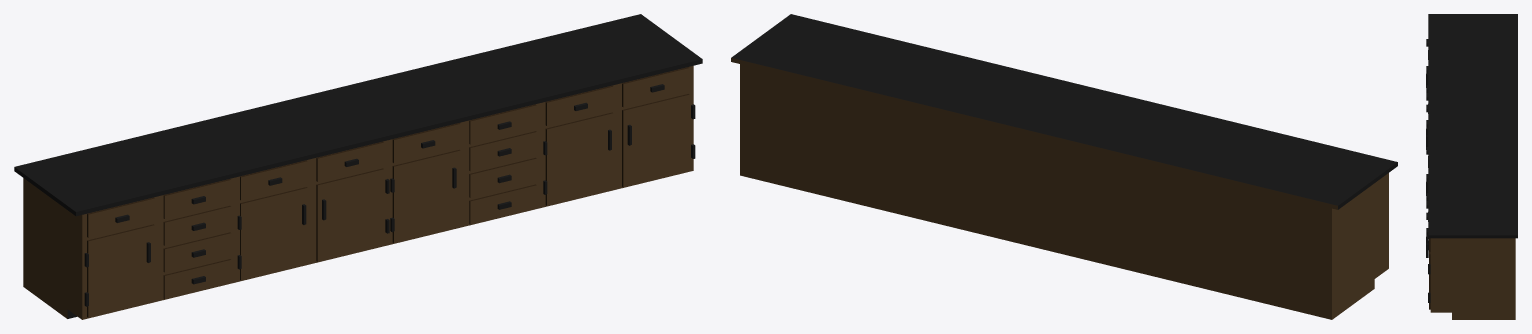
File: counterMERGED.fbx
The picture shows the model from 3 angles, left to right: view 1: azimuth 30°, elevation 25°; view 2: azimuth 150°, elevation 25°; view 3: azimuth 270°, elevation 25°; orthographic projection. The views are drawn at different scales.
Visible parts, largest first — view 1: Cube.007; view 2: Cube.007; view 3: Cube.007.
Boxes of the visible parts, x1=… form: Cube.007: x1=14, y1=14, x2=702, y2=319; Cube.007: x1=731, y1=14, x2=1397, y2=319; Cube.007: x1=1426, y1=14, x2=1517, y2=319.
Bounding box in the file's own units: 615 × 113 × 108.
